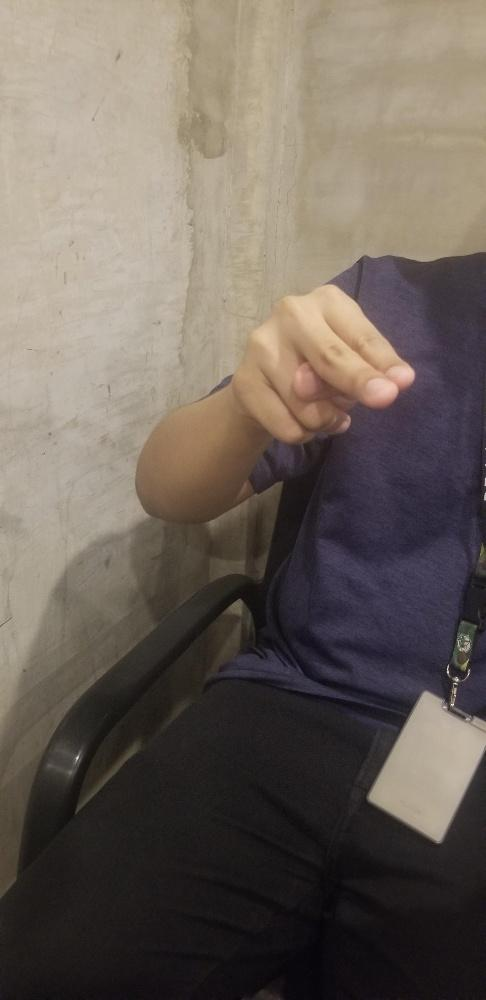n: (233, 281, 414, 443)
